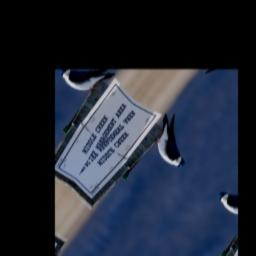Swallow: (142, 110, 206, 173)
